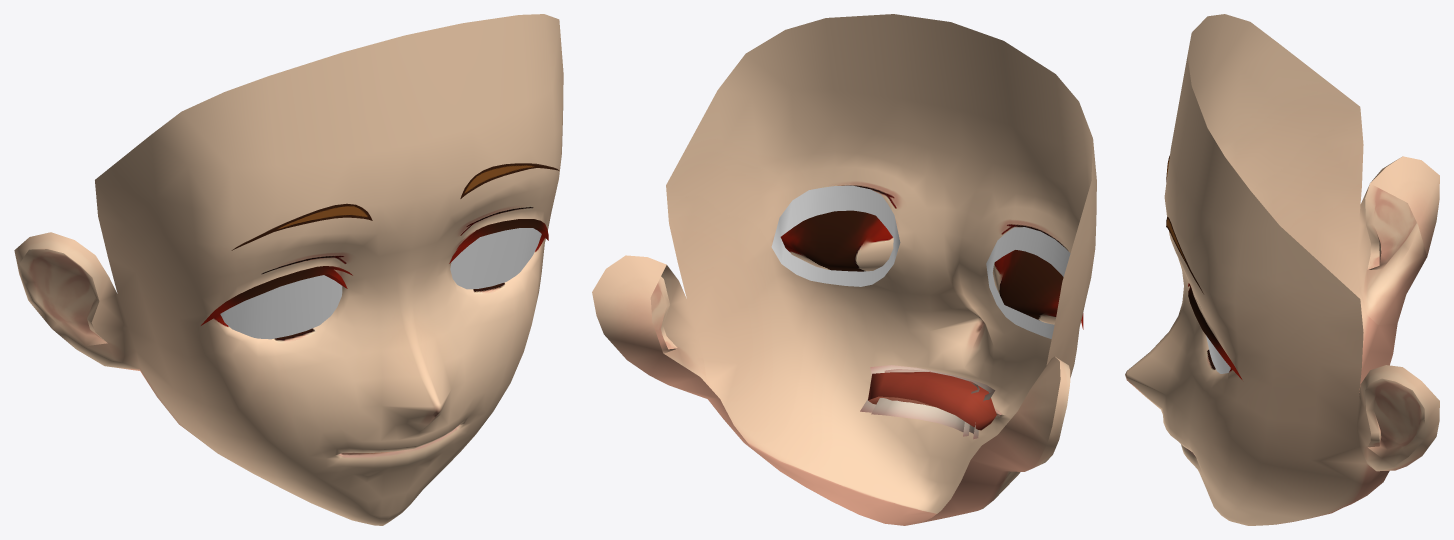
Rendered from Mitsuru.fbx.
3 views of the same model, side by side, from view 1: azimuth 30°, elevation 25°; view 2: azimuth 150°, elevation 25°; view 3: azimuth 270°, elevation 25° (orthographic). The views are drawn at different scales.
Visible parts, largest first — view 1: M_Head, M_Eye_B_Def, M_Mth_B_Def, M_PupALL_R_A_Def, M_PupALL_L_A_Def, M_Brw_B_Def; view 2: M_Head, M_Eye_B_Def, M_Mth_B_Def, M_PupALL_L_A_Def, M_PupALL_R_A_Def; view 3: M_Head, M_Eye_B_Def, M_Mth_B_Def, M_PupALL_L_A_Def.
Part boxes in pixels (x1,y1,x2,y2): M_Head: (14,14,563,388); M_Eye_B_Def: (126,120,562,416); M_Mth_B_Def: (140,352,523,525); M_PupALL_R_A_Def: (220,275,342,339); M_PupALL_L_A_Def: (450,228,541,289); M_Brw_B_Def: (231,163,559,250); M_Head: (592,14,1096,471); M_Eye_B_Def: (695,127,1096,377); M_Mth_B_Def: (708,320,1040,525); M_PupALL_L_A_Def: (771,185,900,286); M_PupALL_R_A_Def: (986,227,1070,338); M_Head: (1164,14,1439,471); M_Eye_B_Def: (1125,103,1320,460); M_Mth_B_Def: (1125,314,1397,525); M_PupALL_L_A_Def: (1206,335,1230,373).
Bounding box in the file's own units: 0.196 × 0.1866 × 0.1142.
Materials: 5 (3 with a texture image).
